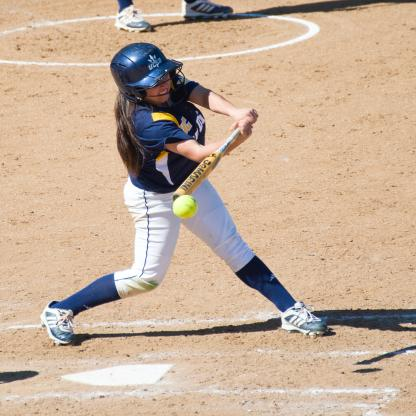Helmet: (115, 44, 183, 101)
